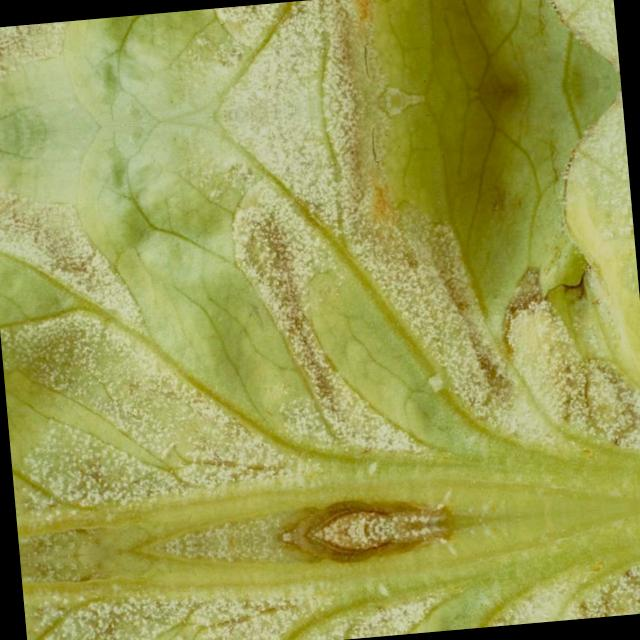Downy_mildew: (56, 255, 358, 375), (202, 188, 318, 492), (298, 144, 411, 438), (501, 263, 640, 463), (6, 9, 205, 82), (20, 167, 218, 240), (41, 393, 200, 469), (527, 555, 640, 622), (285, 0, 377, 65), (236, 580, 331, 640), (185, 2, 278, 38), (340, 616, 428, 640), (62, 629, 217, 640)
